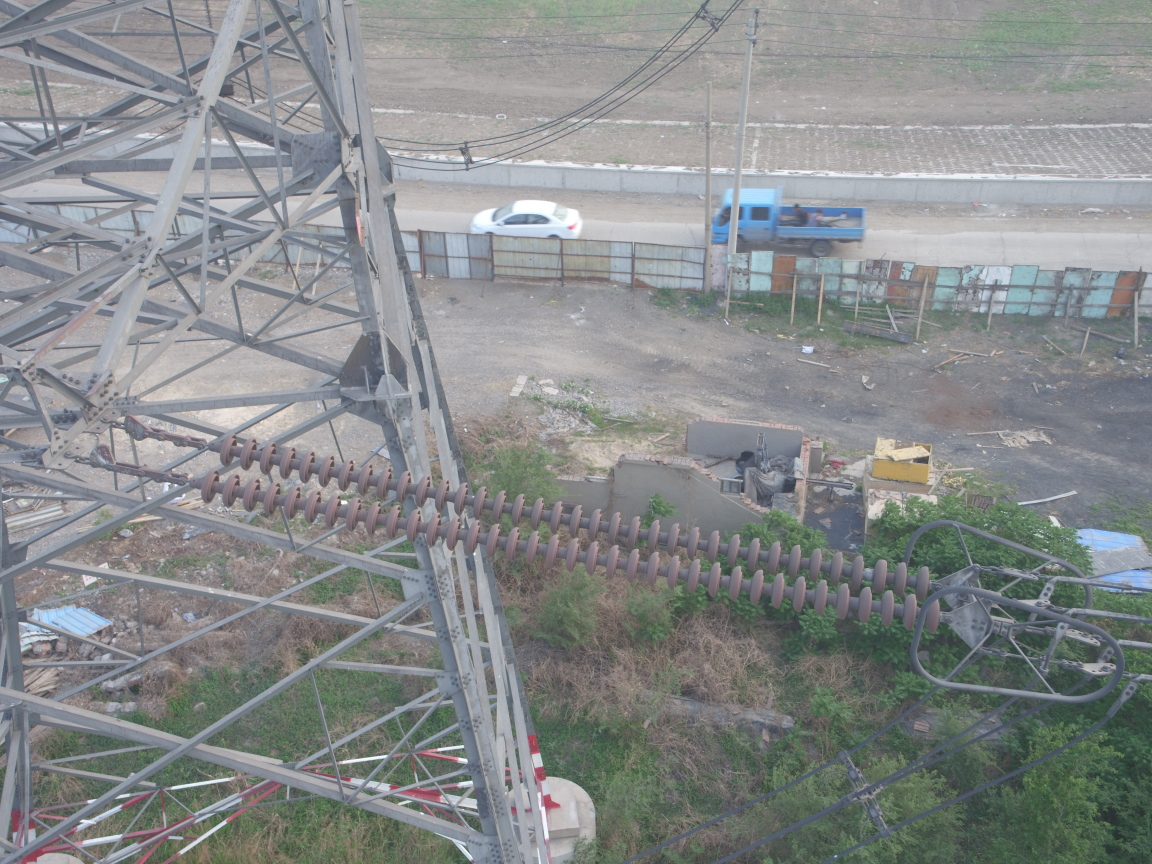insulator: (156, 424, 954, 638)
